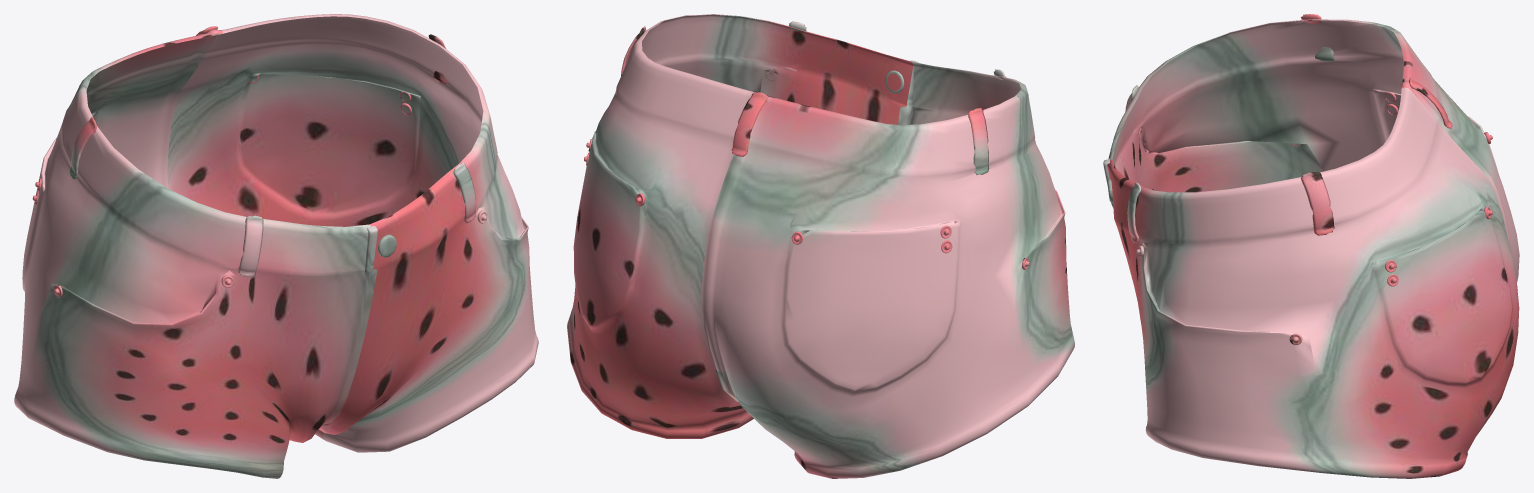
The model's file is f_trousers03.obj.
3 renders of one model, left to right at view 1: azimuth 30°, elevation 25°; view 2: azimuth 150°, elevation 25°; view 3: azimuth 270°, elevation 25°, orthographic. The views are drawn at different scales.
Parts seen in each view (by area): view 1: short_jeans; view 2: short_jeans; view 3: short_jeans.
Boxes of the visible parts, left/top/right/bottom form: short_jeans: left=14, top=14, right=538, bottom=478; short_jeans: left=567, top=14, right=1074, bottom=478; short_jeans: left=1103, top=14, right=1519, bottom=478.
Bounding box in the file's own units: 43.33 × 32.52 × 35.43.
Materials: 1 (1 with a texture image).
